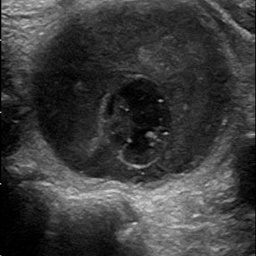mass: (31, 8, 229, 173)
